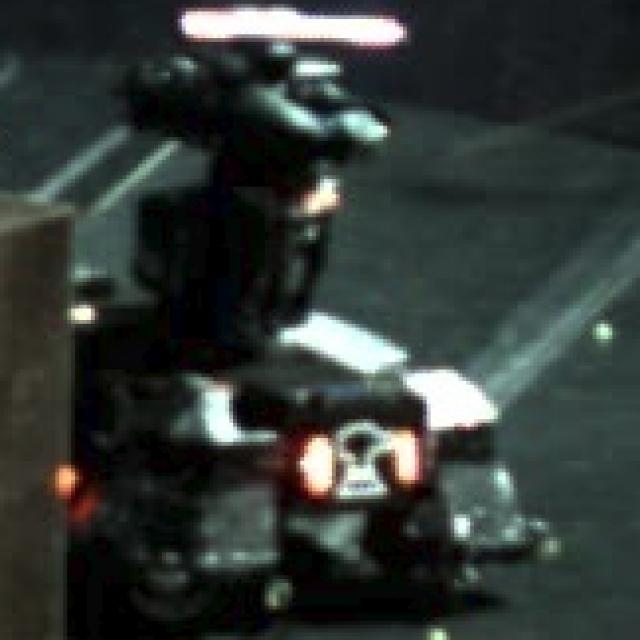Rs: (304, 419, 423, 503)
